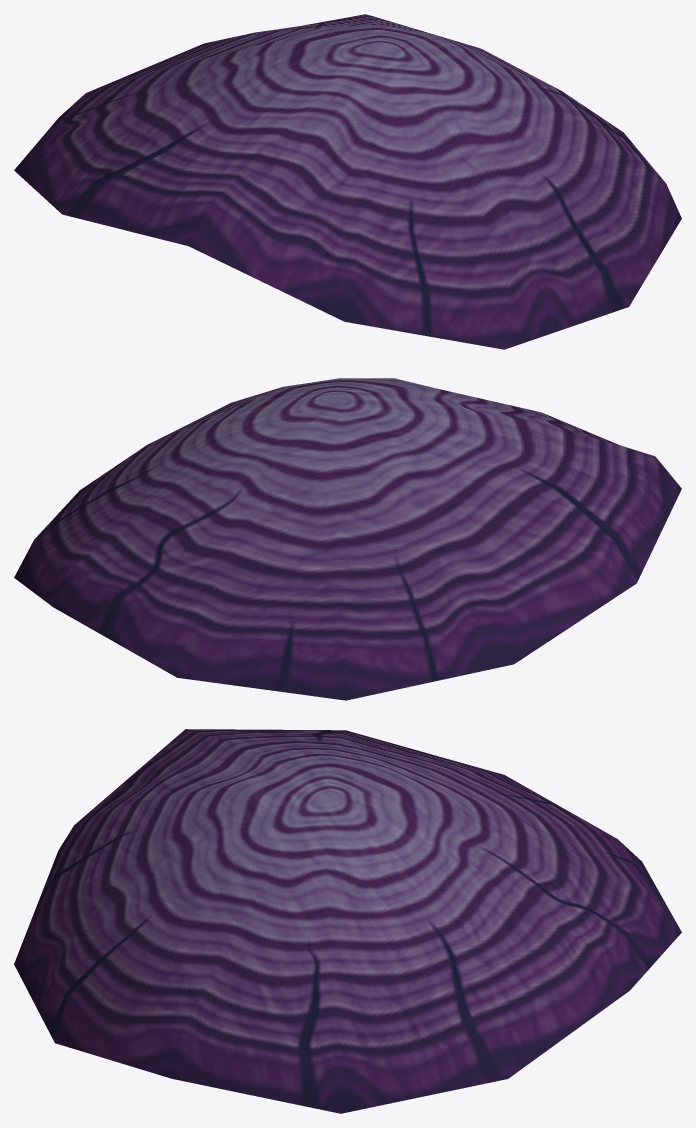
File: MushroomBig.obj
The picture shows the model from 3 angles, top to bottom: view 1: azimuth 30°, elevation 25°; view 2: azimuth 150°, elevation 25°; view 3: azimuth 270°, elevation 25°; orthographic projection.
Visible parts, largest first — view 1: Default_Layer; view 2: Default_Layer; view 3: Default_Layer.
Boxes of the visible parts, x1=… form: Default_Layer: x1=14, y1=14, x2=681, y2=349; Default_Layer: x1=14, y1=378, x2=681, y2=700; Default_Layer: x1=14, y1=729, x2=681, y2=1113.
Size of the model in its own units: 0.6238 by 0.2247 by 0.6292.
